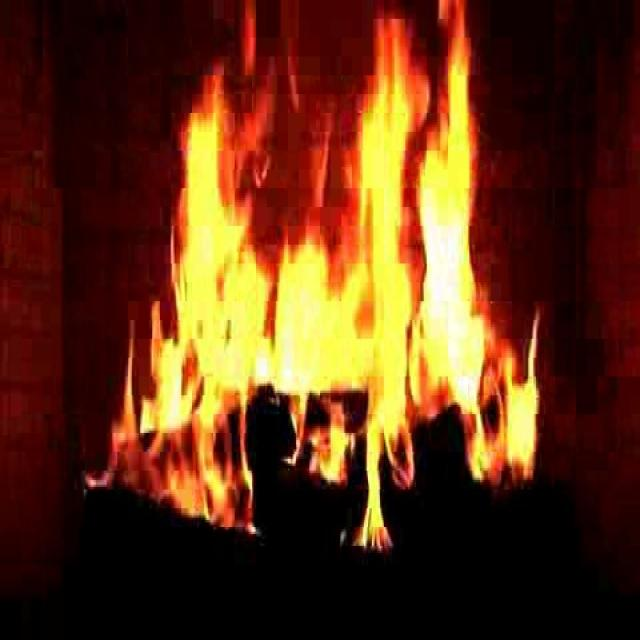fire: (164, 44, 543, 517)
